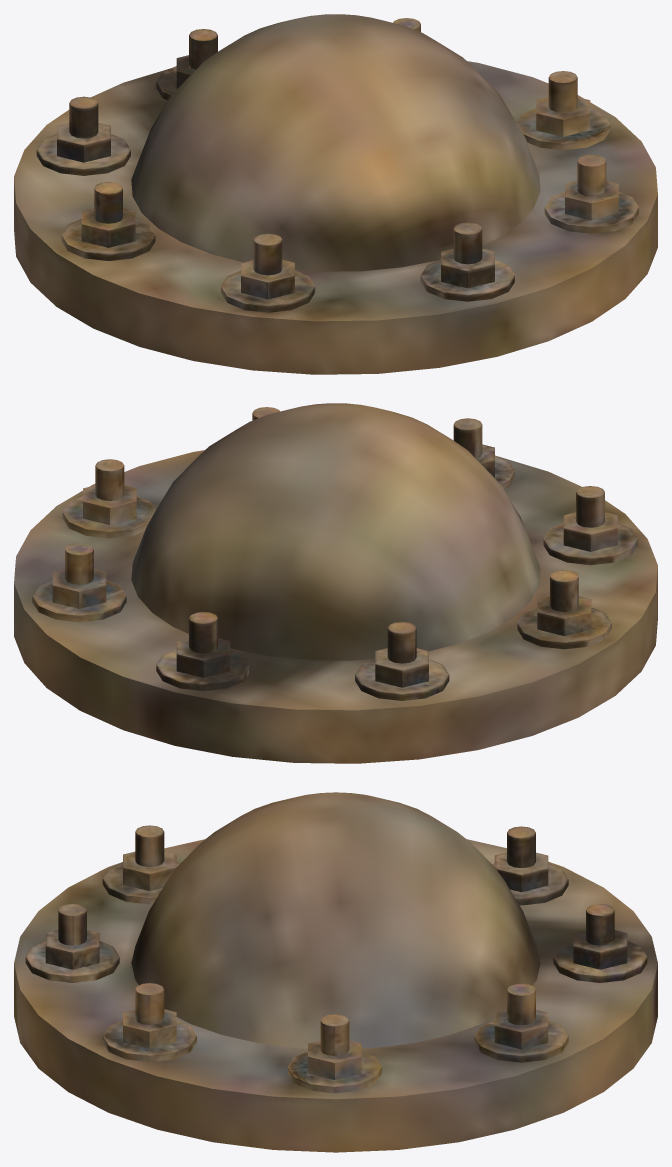
File: pipe-collar.glb
The picture shows the model from 3 angles, top to bottom: view 1: azimuth 30°, elevation 25°; view 2: azimuth 150°, elevation 25°; view 3: azimuth 270°, elevation 25°; orthographic projection.
Visible parts, largest first — view 1: pipe-collar; view 2: pipe-collar; view 3: pipe-collar.
Boxes of the visible parts, x1,y1,x2,y2 form: pipe-collar: (14,14,657,374); pipe-collar: (14,403,657,763); pipe-collar: (14,792,657,1152).
Size of the model in its own units: 0.2811 by 0.0987 by 0.2811.
Materials: 1 (1 with a texture image).
